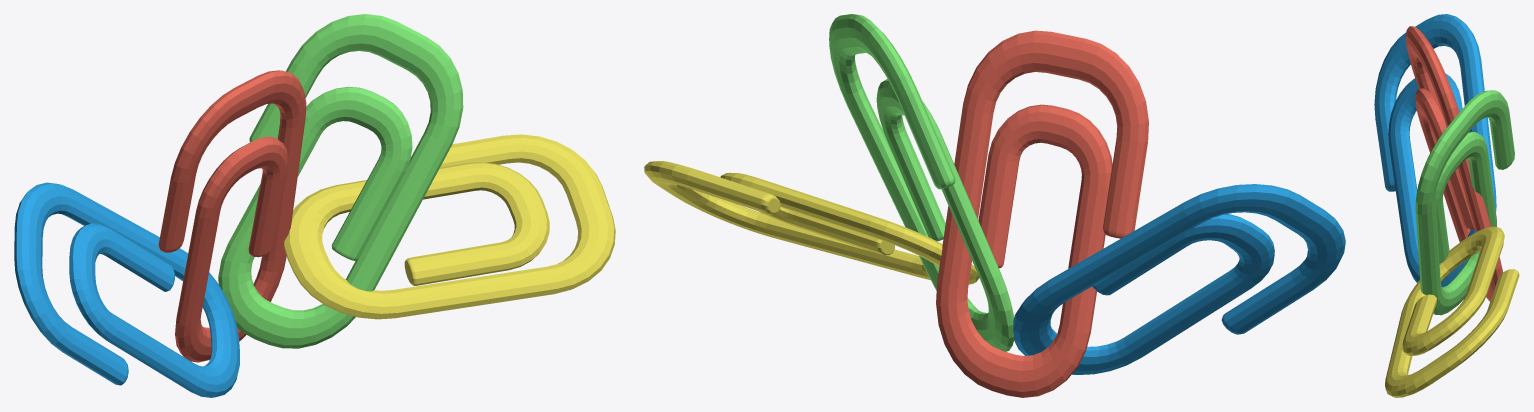
The model's file is clip.glb.
The picture shows the model from 3 angles, left to right: view 1: azimuth 30°, elevation 25°; view 2: azimuth 150°, elevation 25°; view 3: azimuth 270°, elevation 25°; orthographic projection. The views are drawn at different scales.
Visible parts, largest first — view 1: Plane.002, Plane.003, Plane.001, Plane; view 2: Plane, Plane.001, Plane.002, Plane.003; view 3: Plane.002, Plane.001, Plane.003, Plane.
Boxes of the visible parts, x1=… form: Plane.002: x1=218, y1=14, x2=463, y2=348; Plane.003: x1=284, y1=134, x2=615, y2=319; Plane.001: x1=14, y1=182, x2=239, y2=397; Plane: x1=158, y1=70, x2=306, y2=362; Plane: x1=936, y1=30, x2=1148, y2=397; Plane.001: x1=1013, y1=184, x2=1345, y2=374; Plane.002: x1=829, y1=14, x2=1014, y2=351; Plane.003: x1=644, y1=161, x2=979, y2=284; Plane.002: x1=1415, y1=90, x2=1514, y2=315; Plane.001: x1=1374, y1=14, x2=1496, y2=287; Plane.003: x1=1385, y1=226, x2=1519, y2=397; Plane: x1=1405, y1=26, x2=1502, y2=301.
Size of the model in its own units: 6.86 by 3.34 by 1.64.
